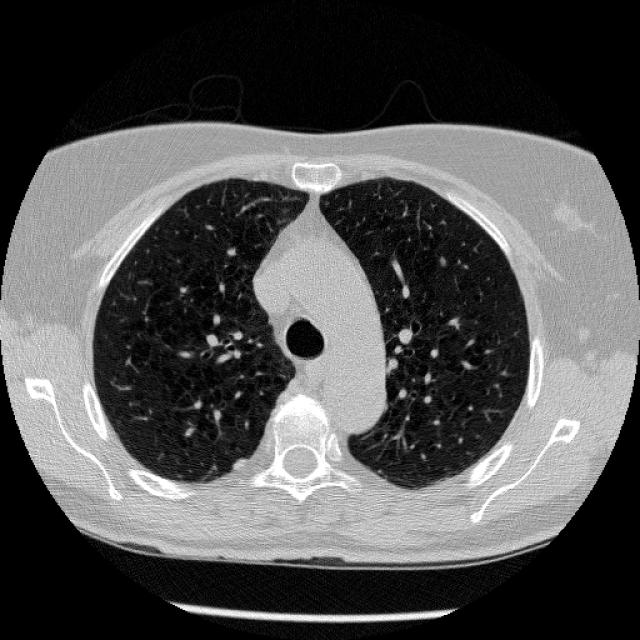nodule: (224, 448, 254, 478)
